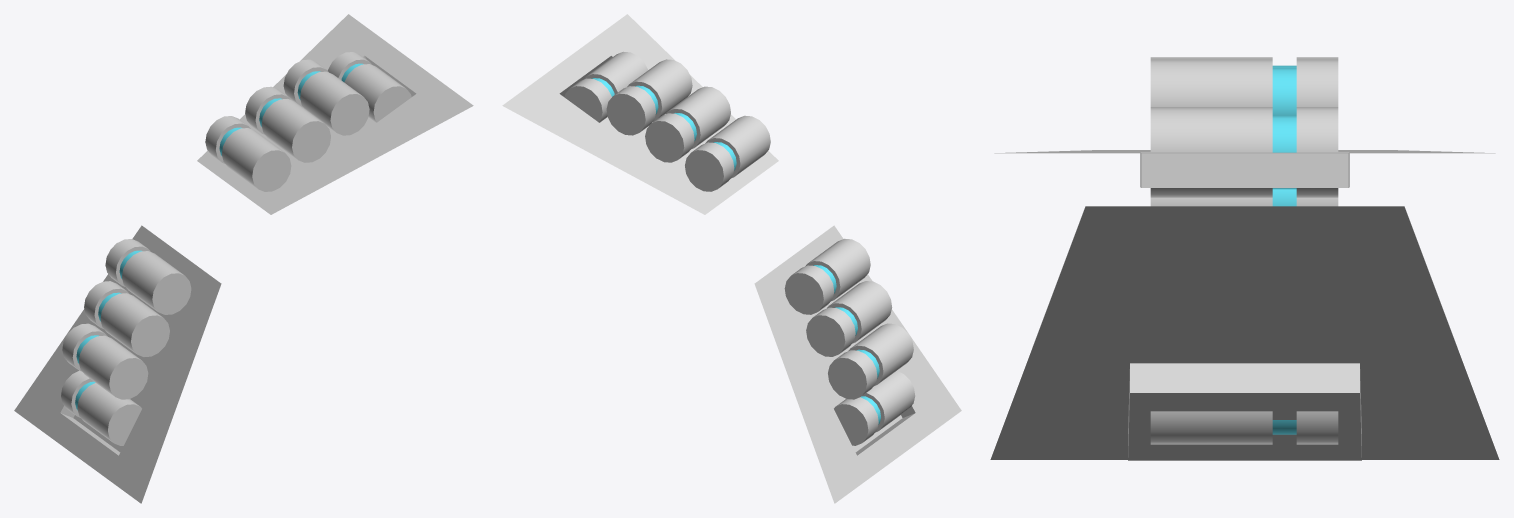
File: Mod_Pauldron_R_Queen1.FBX
The picture shows the model from 3 angles, left to right: view 1: azimuth 30°, elevation 25°; view 2: azimuth 150°, elevation 25°; view 3: azimuth 270°, elevation 25°; orthographic projection. The views are drawn at different scales.
Visible parts, largest first — view 1: Mod_Pauldron_R_Queen1; view 2: Mod_Pauldron_R_Queen1; view 3: Mod_Pauldron_R_Queen1.
Boxes of the visible parts, x1,y1,x2,y2 form: Mod_Pauldron_R_Queen1: (14,14,473,503); Mod_Pauldron_R_Queen1: (502,14,961,503); Mod_Pauldron_R_Queen1: (990,57,1499,460).
Size of the model in its own units: 218 by 200 by 144.
